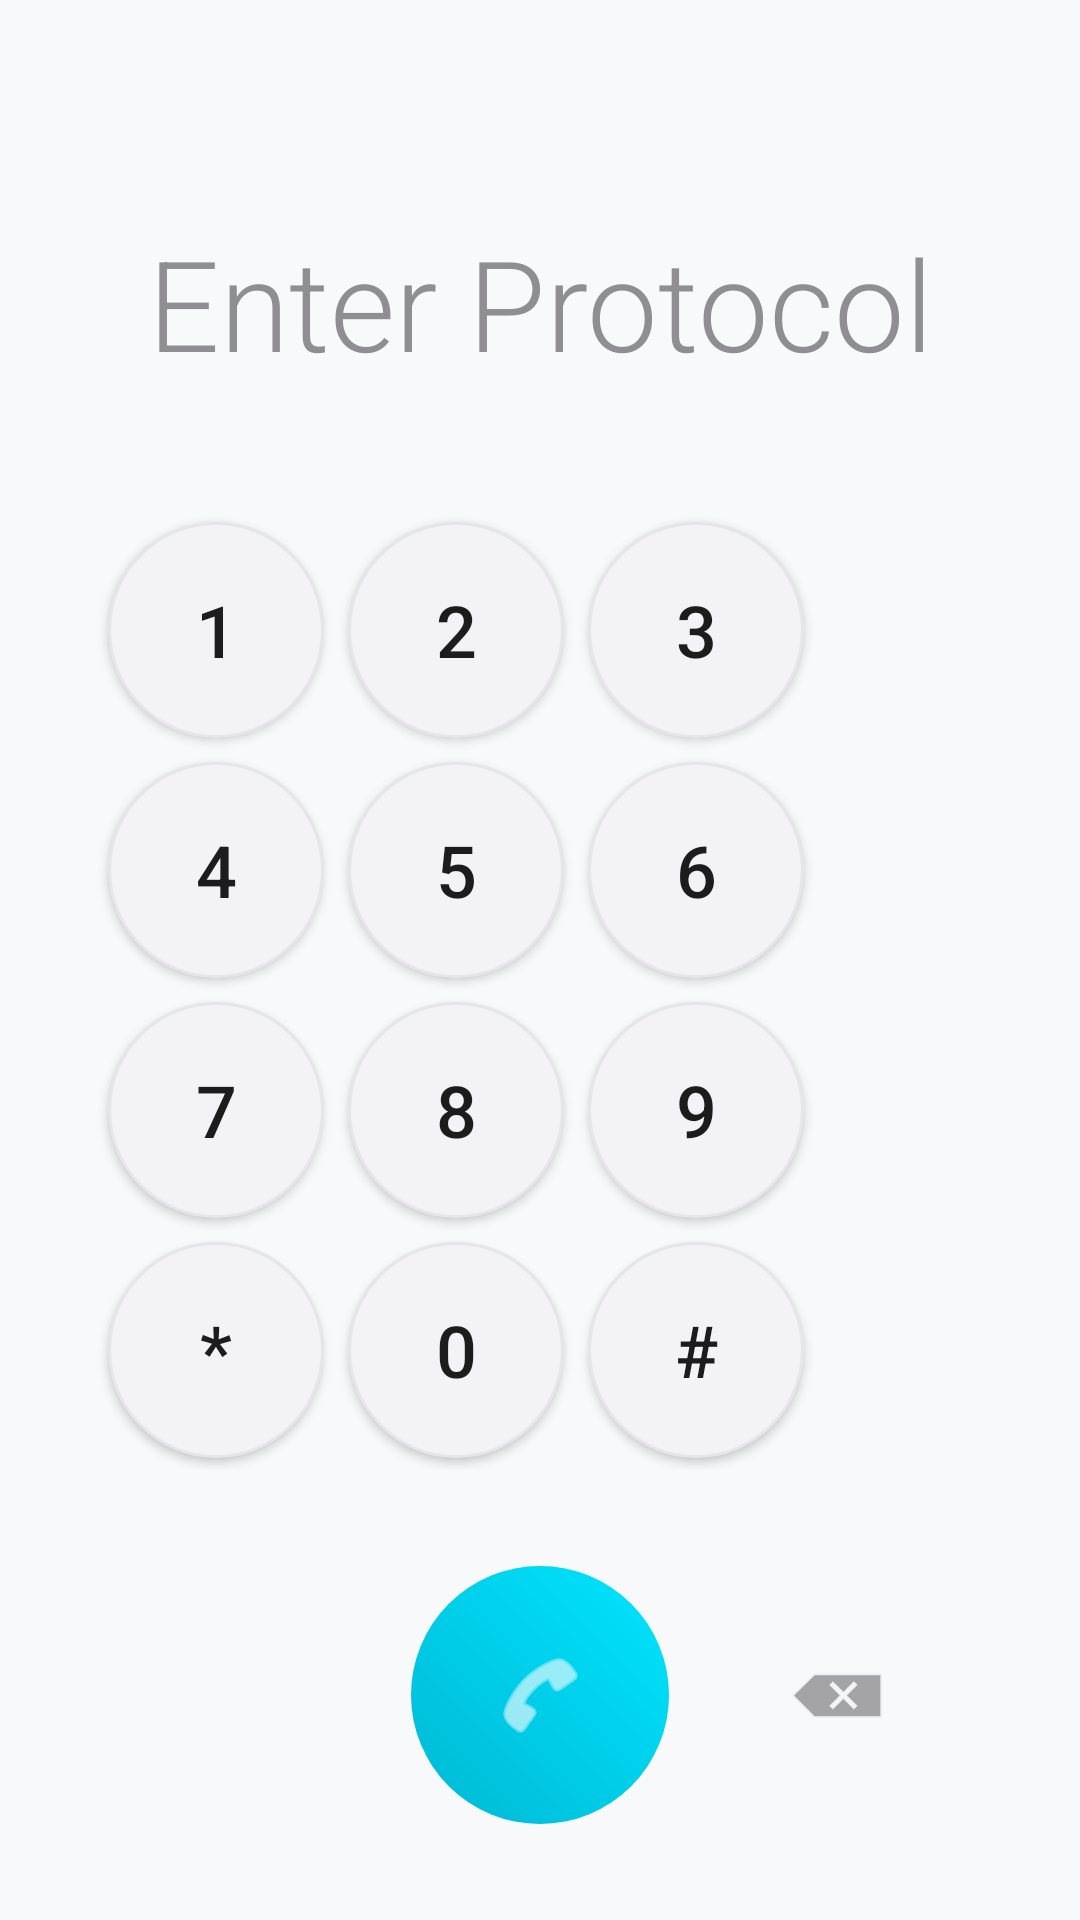

Where icons sit on this 1080px x 1920px app screen, as rect(x1, y1, x2, y2):
call: rect(411, 1566, 669, 1824)
delete: rect(794, 1675, 881, 1717)
